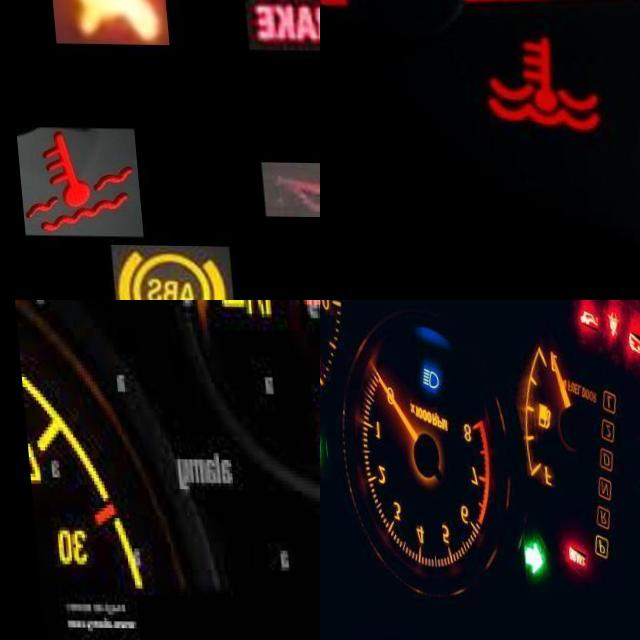Engine cooling system: (458, 1, 635, 160), (9, 127, 135, 236)
